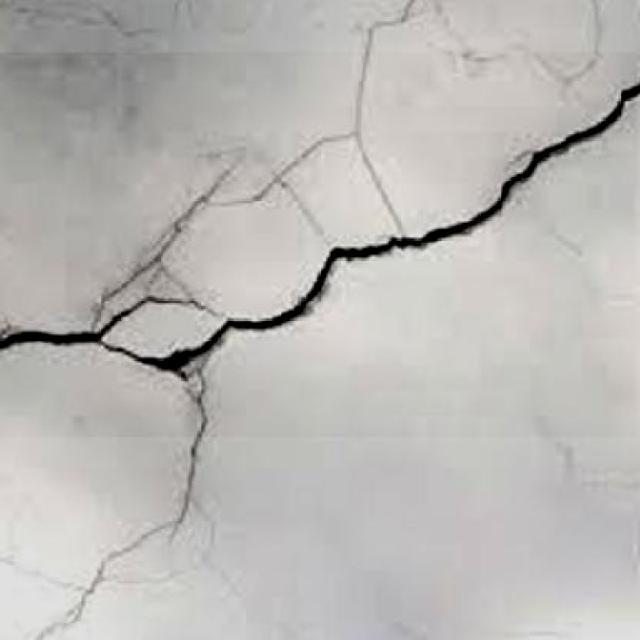SurfaceCrack: (0, 50, 640, 436)
